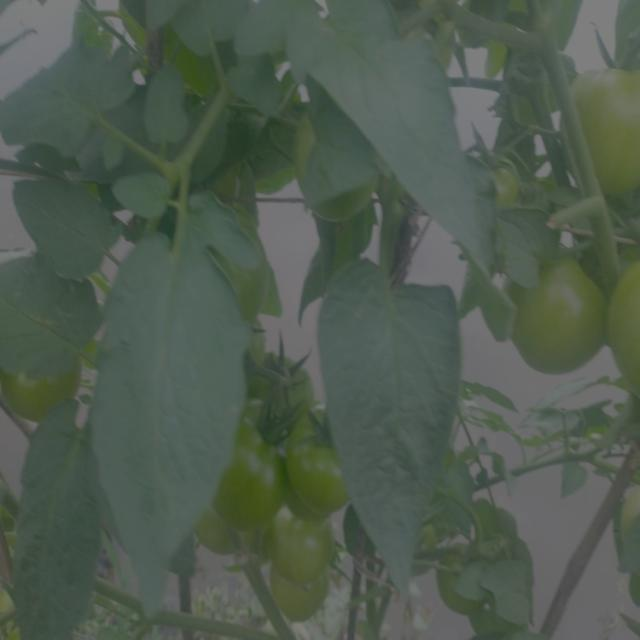tomato: (511, 246, 604, 380), (562, 61, 640, 197), (4, 345, 91, 439), (282, 439, 362, 522), (251, 334, 319, 431), (268, 517, 337, 587), (221, 445, 282, 523), (609, 255, 640, 393), (480, 138, 534, 215), (191, 505, 256, 561), (267, 585, 336, 630)
